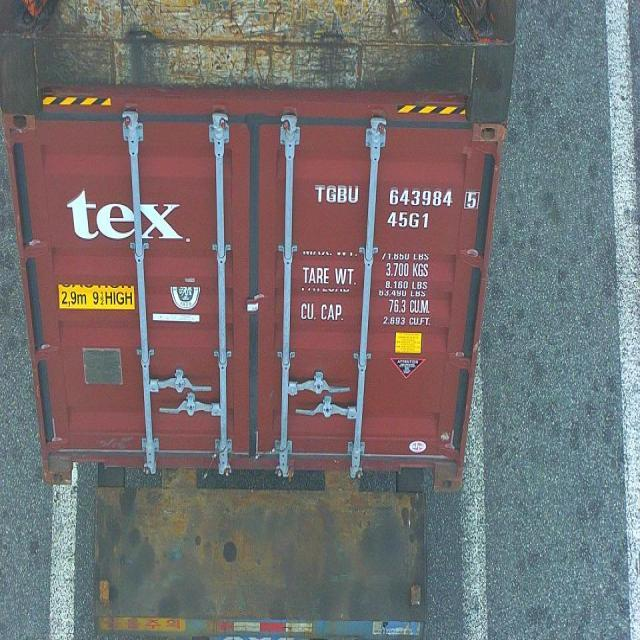ISO: (388, 212, 432, 229)
container_number: (316, 187, 476, 210)
